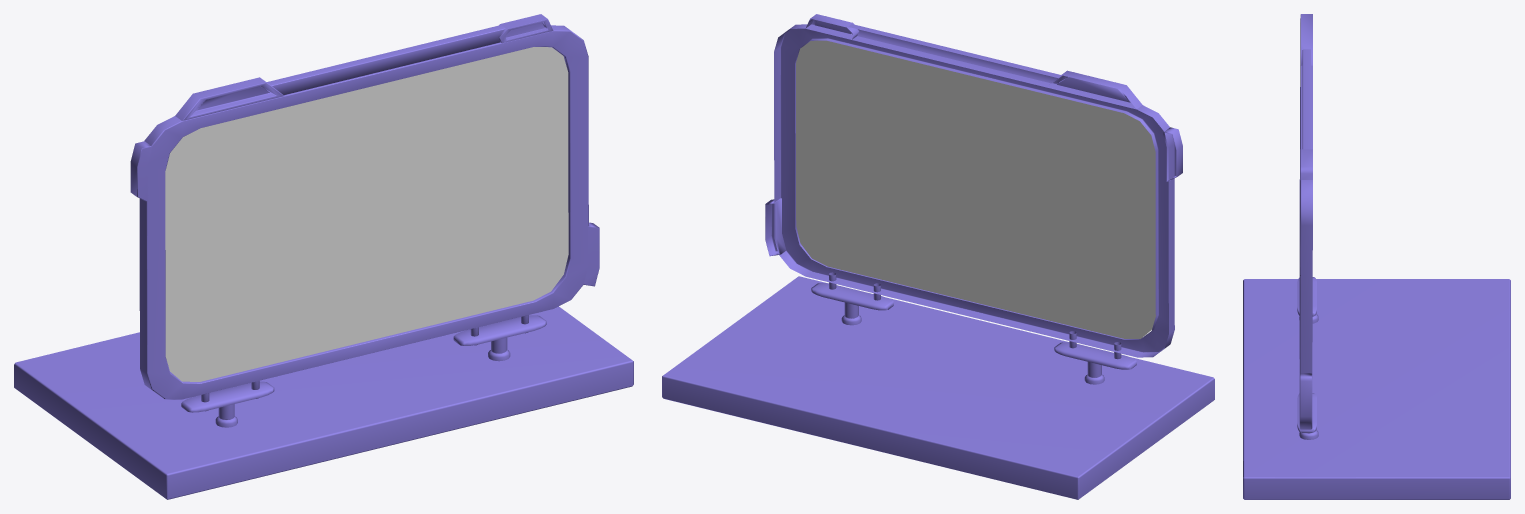
Rendered from MSH_ECRAN.fbx.
3 renders of one model, left to right at view 1: azimuth 30°, elevation 25°; view 2: azimuth 150°, elevation 25°; view 3: azimuth 270°, elevation 25°, orthographic. The views are drawn at different scales.
Parts seen in each view (by area): view 1: ecran_low, socle_low, cadre_low, deco_cadre_low, pieds_low; view 2: ecran_low, socle_low, cadre_low, deco_cadre_low, pieds_low; view 3: socle_low, cadre_low, deco_cadre_low, pieds_low.
Boxes of the visible parts, <box> form: ecran_low: <box>165,47,568,381</box>; socle_low: <box>14,306,633,499</box>; cadre_low: <box>139,25,588,399</box>; deco_cadre_low: <box>130,14,599,286</box>; pieds_low: <box>181,315,546,427</box>; ecran_low: <box>796,40,1155,338</box>; socle_low: <box>662,276,1214,499</box>; cadre_low: <box>774,24,1174,357</box>; deco_cadre_low: <box>765,14,1182,256</box>; pieds_low: <box>811,272,1136,384</box>; socle_low: <box>1243,279,1510,499</box>; cadre_low: <box>1299,65,1312,373</box>; deco_cadre_low: <box>1299,14,1312,429</box>; pieds_low: <box>1297,277,1318,439</box>.
Size of the model in its own units: 1130 by 835 by 642.
